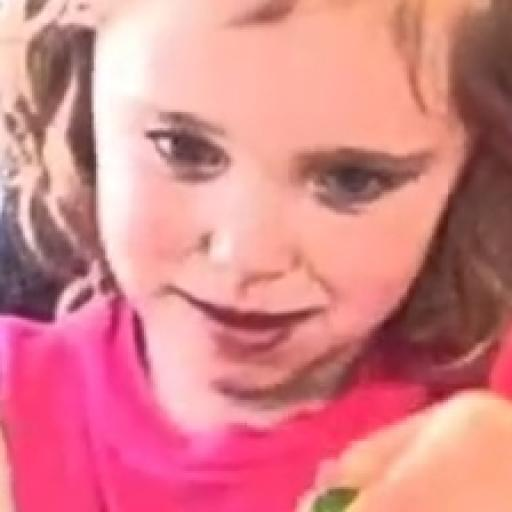Autism: (66, 0, 450, 423)
